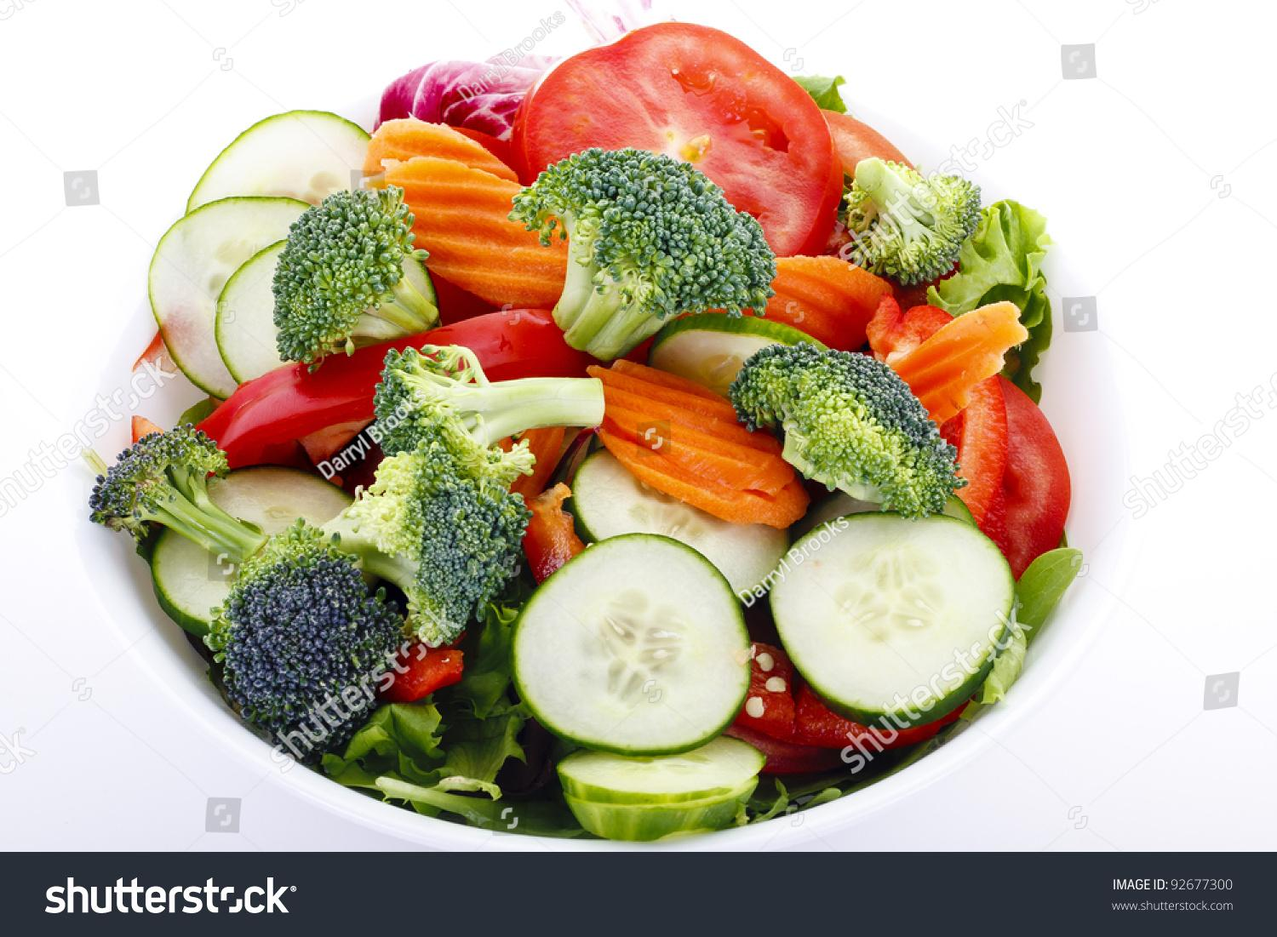broccoli: (82, 352, 603, 778), (510, 153, 783, 369), (730, 345, 963, 520)
carrot: (373, 92, 602, 331), (592, 357, 821, 528)
cucumber: (744, 535, 1061, 730)
tomato: (489, 31, 944, 294)
